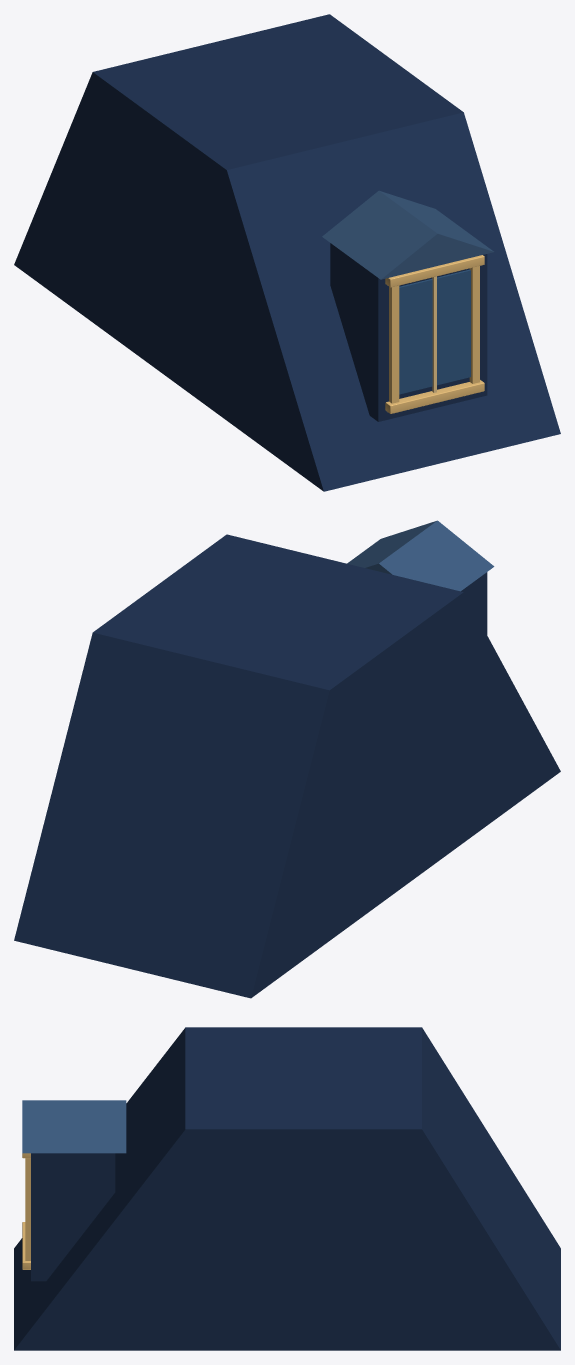
The model's file is toit-mansarde-2m.glb.
The picture shows the model from 3 angles, top to bottom: view 1: azimuth 30°, elevation 25°; view 2: azimuth 150°, elevation 25°; view 3: azimuth 270°, elevation 25°; orthographic projection. The views are drawn at different scales.
Visible parts, largest first — view 1: toit-mansarde-2m; view 2: toit-mansarde-2m; view 3: toit-mansarde-2m.
Boxes of the visible parts, <box> form: toit-mansarde-2m: <box>14,14,560,491</box>; toit-mansarde-2m: <box>14,520,560,998</box>; toit-mansarde-2m: <box>14,1027,560,1350</box>.
Size of the model in its own units: 2 by 2.02 by 4.53.
1 material, 1 textured.
